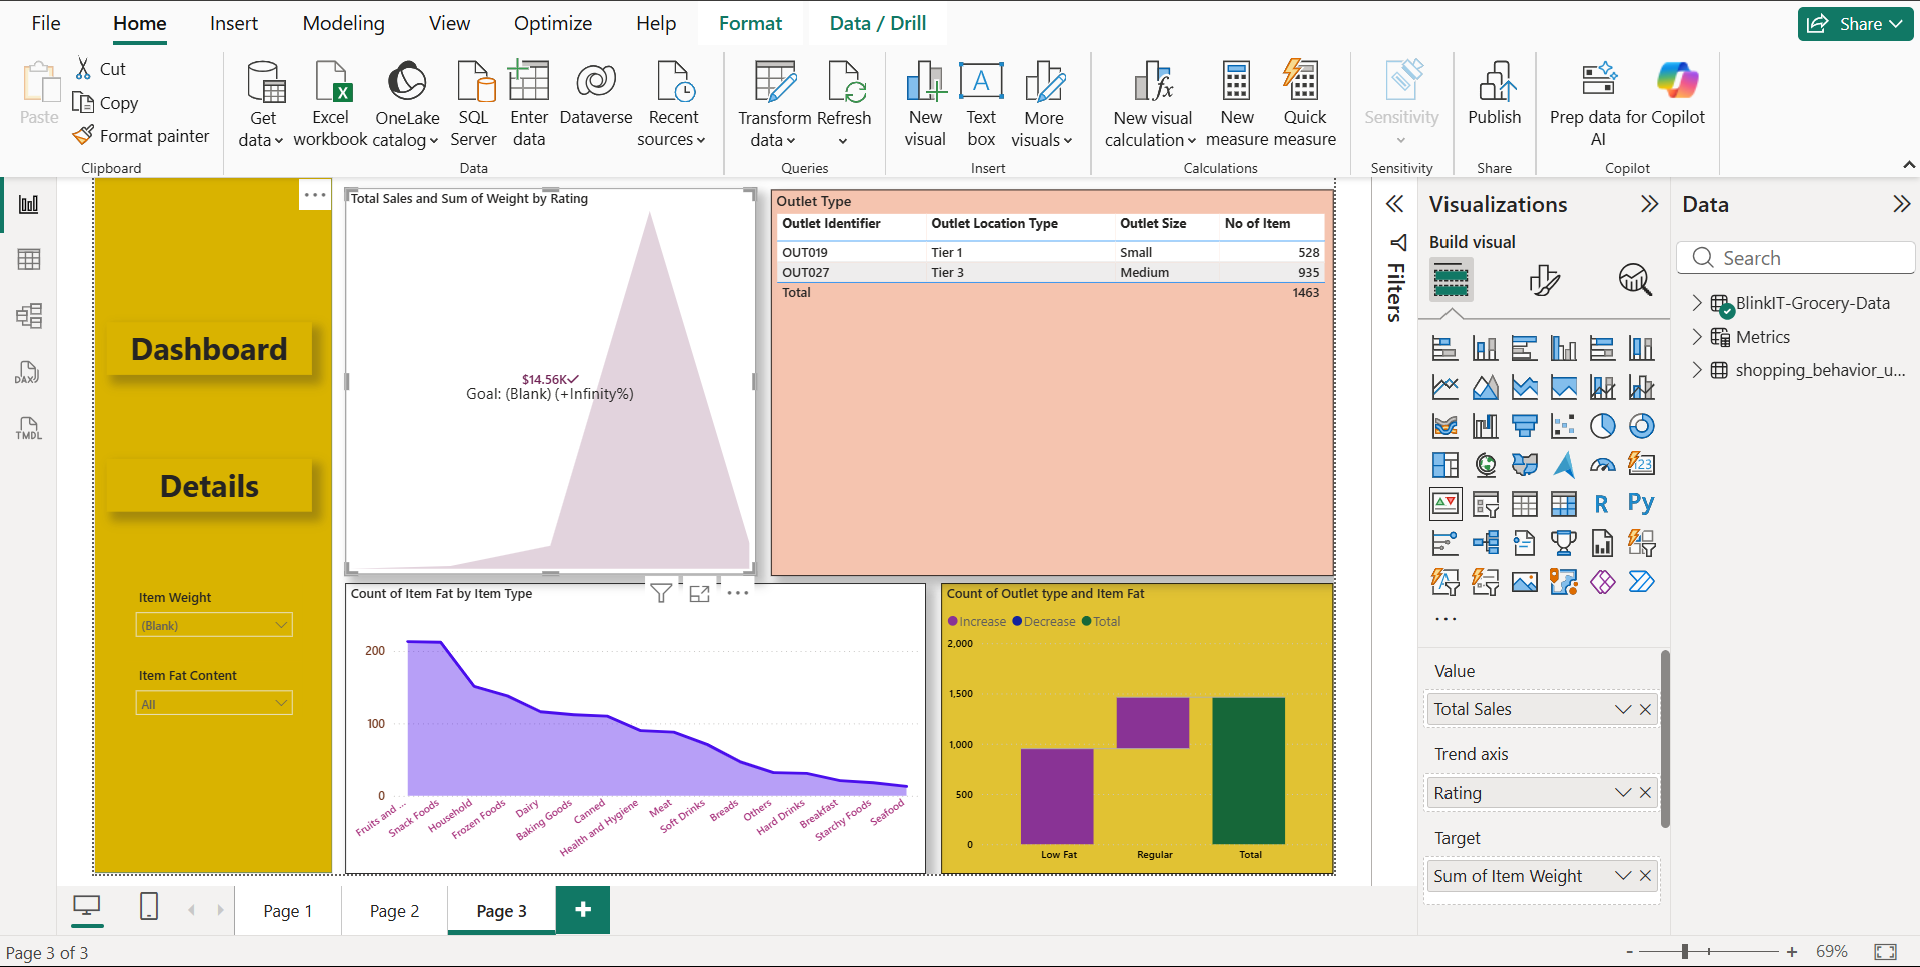

The dashboard page shown, as its layout file describes it:
{"tool":"powerbi","page":{"name":"Page 3","canvas":[1280,720],"ordinal":2},"visuals":[{"type":"waterfallChart","title":"Count of Outlet type and Item Fat","fields":{"Category":["BlinkIT-Grocery-Data.Item Fat Content"],"Y":["CountNonNull(BlinkIT-Grocery-Data.Outlet Identifier)"]},"box":[875,419.5,405.1,299.8],"z":0},{"type":"kpi","title":"Total Sales and Sum of Weight by Rating","fields":{"Indicator":["BlinkIT-Grocery-Data.Total Sales"],"TrendLine":["BlinkIT-Grocery-Data.Rating"],"Goal":["Sum(BlinkIT-Grocery-Data.Item Weight)"]},"box":[259.5,11.5,423.8,399.3],"z":1000},{"type":"tableEx","title":"Outlet Type","fields":{"Values":["BlinkIT-Grocery-Data.Outlet Identifier","BlinkIT-Grocery-Data.Outlet Location Type","BlinkIT-Grocery-Data.Outlet Size","BlinkIT-Grocery-Data.No of Item"]},"box":[699.2,13,581,399.3],"z":2000},{"type":"shape","box":[0,0,246.5,719.3],"z":3001},{"type":"textbox","box":[13,149.9,211.9,54.8],"z":3002},{"type":"areaChart","title":"Count of Item Fat by Item Type","fields":{"Category":["BlinkIT-Grocery-Data.Item Type"],"Y":["CountNonNull(BlinkIT-Grocery-Data.Item Fat Content)"]},"box":[259.5,419.5,599.7,299.8],"z":3003},{"type":"textbox","box":[13,291.2,211.9,54.8],"z":3004},{"type":"slicer","fields":{"Values":["BlinkIT-Grocery-Data.Item Weight"]},"box":[33.2,419.5,181.6,80.7],"z":3005},{"type":"slicer","fields":{"Values":["BlinkIT-Grocery-Data.Item Fat Content"]},"box":[33.2,500.2,181.6,70.6],"z":3006}]}

Visuals, with their boxes on the page's 1280x720 design canvas (x1, y1, x2, y2). These are canvas units, not pixel positions in the 1920x967 screenshot, which may show the page scaled, cropped or inside an application window:
"Count of Outlet type and Item Fat" waterfallChart: <region>875, 420, 1280, 719</region>
"Total Sales and Sum of Weight by Rating" kpi: <region>260, 12, 683, 411</region>
"Outlet Type" tableEx: <region>699, 13, 1280, 412</region>
shape: <region>0, 0, 246, 719</region>
textbox: <region>13, 150, 225, 205</region>
"Count of Item Fat by Item Type" areaChart: <region>260, 420, 859, 719</region>
textbox: <region>13, 291, 225, 346</region>
slicer - BlinkIT-Grocery-Data.Item Weight: <region>33, 420, 215, 500</region>
slicer - BlinkIT-Grocery-Data.Item Fat Content: <region>33, 500, 215, 571</region>
